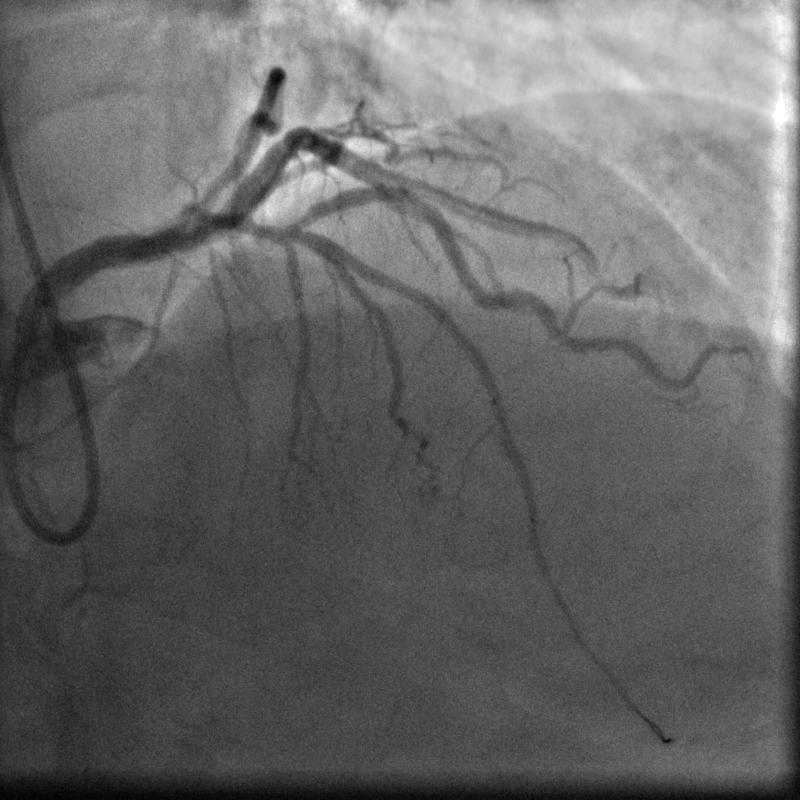Stenosis: (393, 180, 432, 223)
